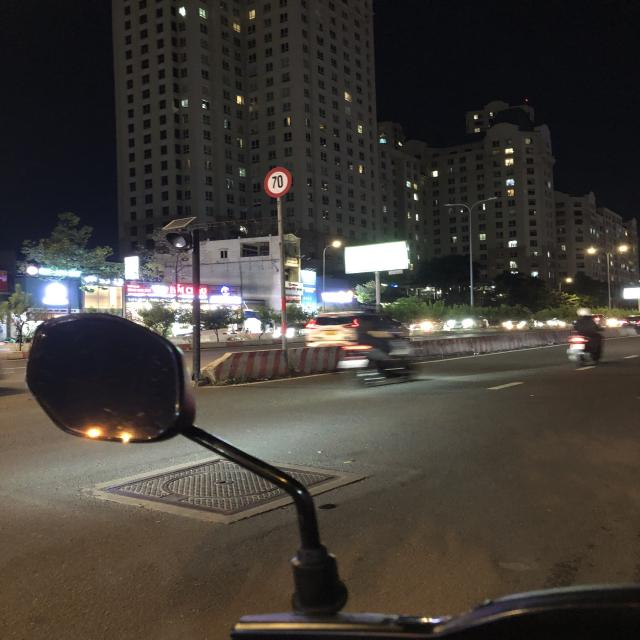Bien bao toc do toi da cho phep: (258, 164, 294, 199)
